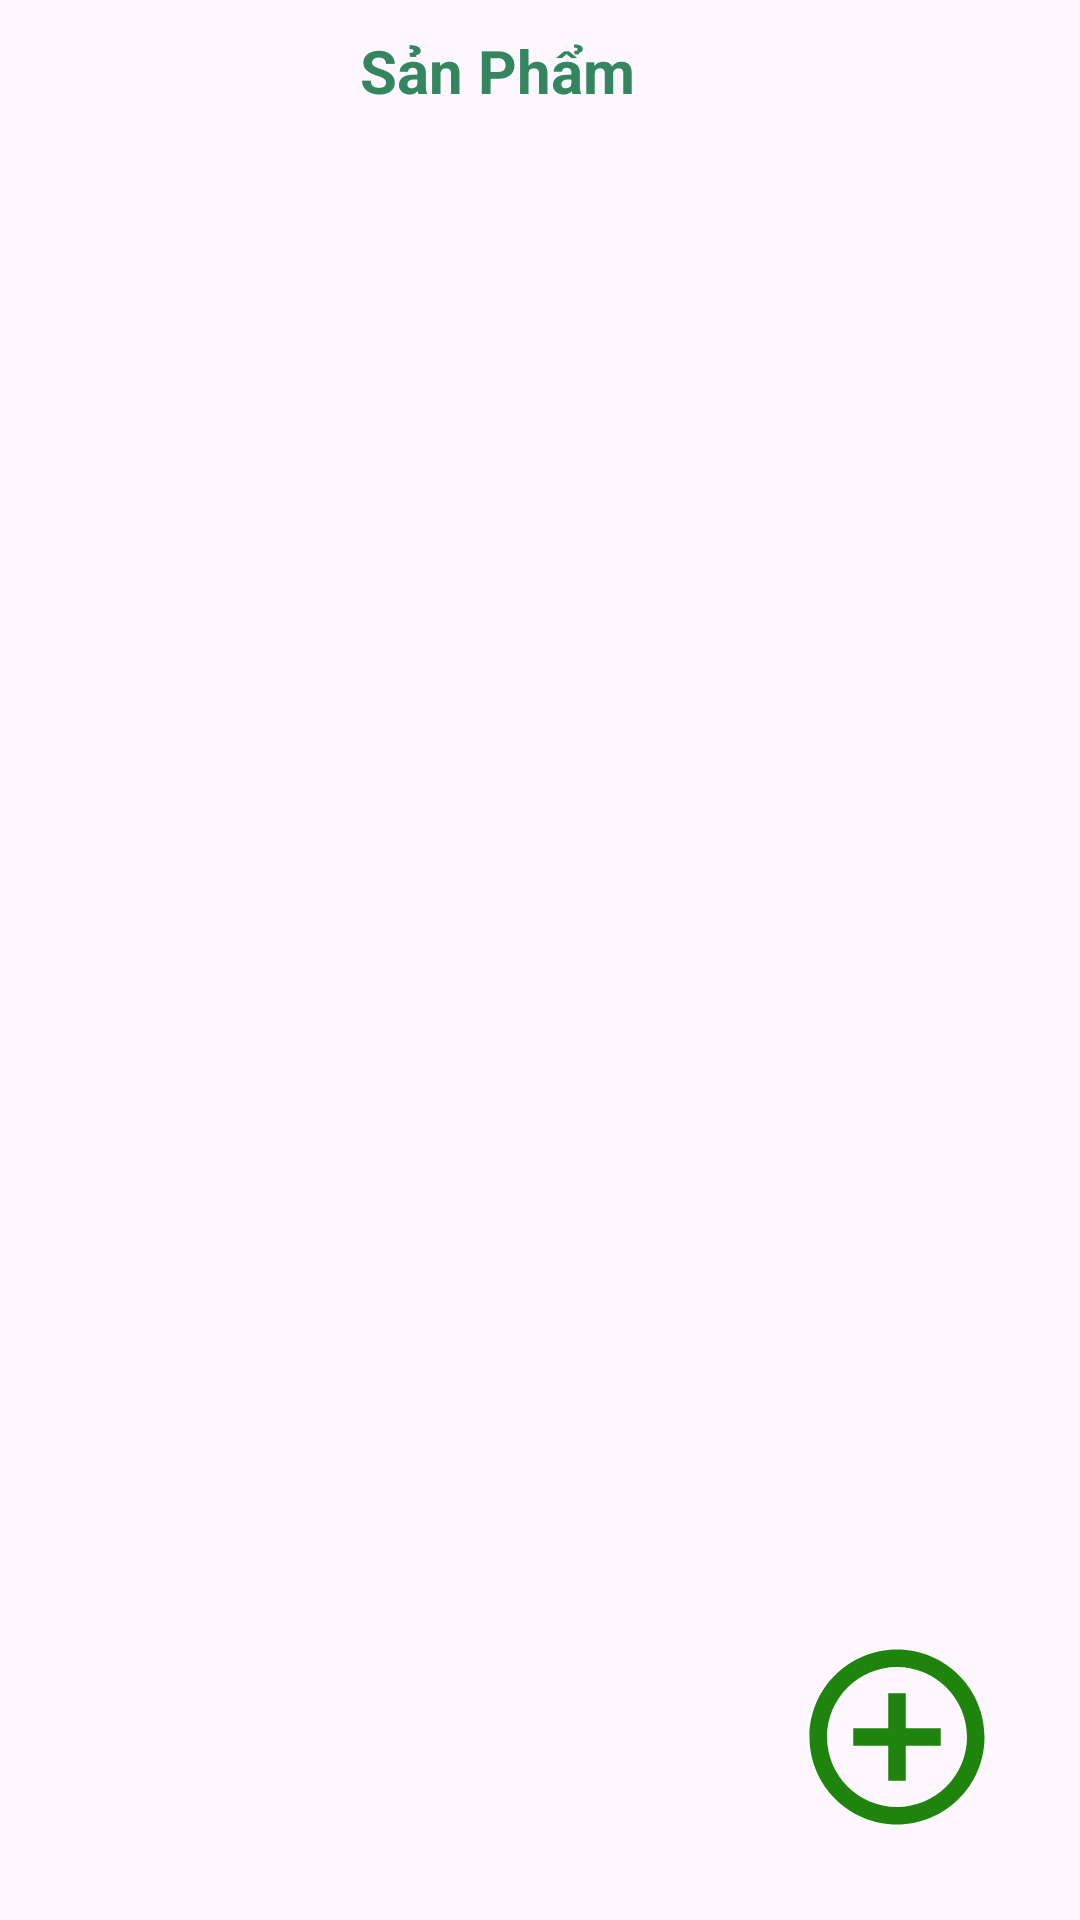

Icon click points for this 1080px x 1920px phone screenshot, format (x,y):
add: (897,1737)
